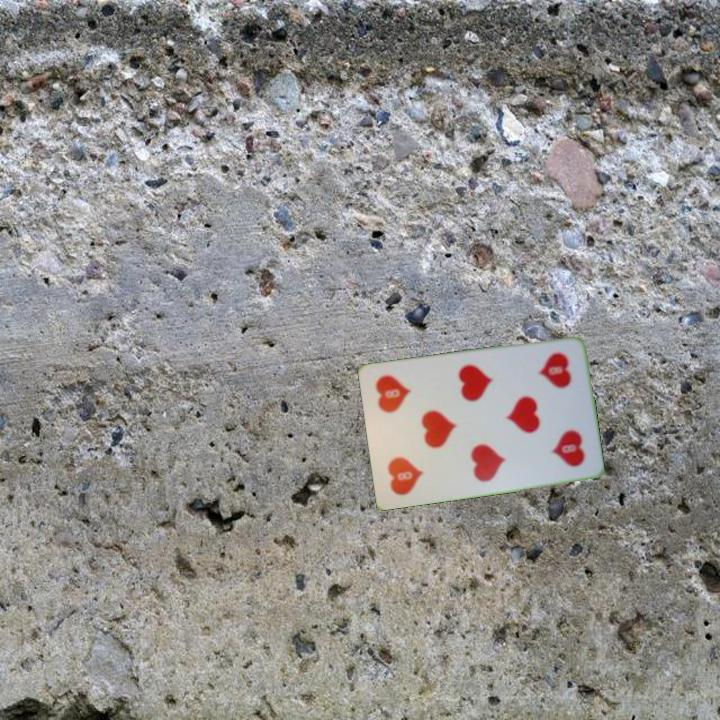h_8.png: (520, 344, 586, 418), (376, 426, 442, 500)
